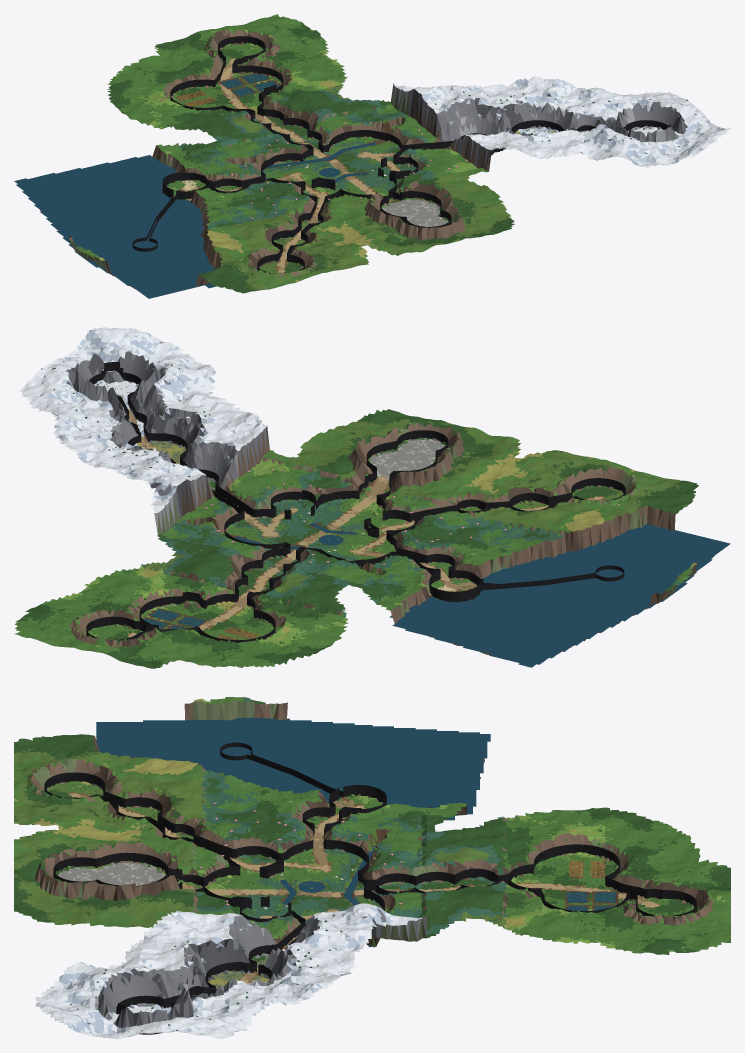
File: World_Terrain.fbx
The picture shows the model from 3 angles, top to bottom: view 1: azimuth 30°, elevation 25°; view 2: azimuth 150°, elevation 25°; view 3: azimuth 270°, elevation 25°; orthographic projection. The views are drawn at different scales.
Visible parts, largest first — view 1: W__lago, B__limites, T__chunk_2_3, T__chunk_3_2, T__chunk_1_4, T__chunk_3_3, T__chunk_5_4, T__chunk_0_5, T__chunk_2_4, T__chunk_3_5, T__chunk_3_0, T__chunk_4_5 (+29 smaller); view 2: W__lago, B__limites, T__chunk_2_4, T__chunk_3_4, T__chunk_4_5, T__chunk_2_3, T__chunk_5_4, T__chunk_0_5, T__chunk_1_5, T__chunk_3_2, T__chunk_6_5, T__chunk_3_5 (+27 smaller); view 3: W__lago, B__limites, T__chunk_4_1, T__chunk_4_2, T__chunk_5_4, T__chunk_4_4, T__chunk_1_5, T__chunk_3_5, T__chunk_3_0, T__chunk_5_5, T__chunk_4_3, T__chunk_0_5 (+30 smaller).
Part boxes in pixels (bbox=[...]): W__lago: bbox=[14, 155, 216, 298]; B__limites: bbox=[132, 36, 670, 274]; T__chunk_2_3: bbox=[378, 85, 492, 143]; T__chunk_3_2: bbox=[266, 82, 377, 140]; T__chunk_1_4: bbox=[494, 87, 606, 134]; T__chunk_3_3: bbox=[307, 114, 416, 171]; T__chunk_5_4: bbox=[203, 182, 317, 225]; T__chunk_0_5: bbox=[614, 98, 723, 147]; T__chunk_2_4: bbox=[429, 104, 532, 171]; T__chunk_3_5: bbox=[390, 172, 503, 222]; T__chunk_3_0: bbox=[180, 21, 294, 78]; T__chunk_4_5: bbox=[322, 192, 432, 239]; W__lago: bbox=[389, 524, 730, 667]; B__limites: bbox=[86, 362, 625, 642]; T__chunk_2_4: bbox=[153, 418, 284, 506]; T__chunk_3_4: bbox=[241, 461, 367, 531]; T__chunk_4_5: bbox=[368, 446, 499, 507]; T__chunk_2_3: bbox=[123, 454, 227, 537]; T__chunk_5_4: bbox=[403, 511, 533, 561]; T__chunk_0_5: bbox=[33, 341, 163, 412]; T__chunk_1_5: bbox=[120, 362, 228, 424]; T__chunk_3_2: bbox=[140, 537, 269, 594]; T__chunk_6_5: bbox=[535, 496, 666, 549]; T__chunk_3_5: bbox=[285, 428, 414, 497]; W__lago: bbox=[96, 717, 490, 820]; B__limites: bbox=[44, 742, 696, 1034]; T__chunk_4_1: bbox=[514, 833, 624, 895]; T__chunk_4_2: bbox=[407, 832, 516, 891]; T__chunk_5_4: bbox=[192, 788, 301, 841]; T__chunk_4_4: bbox=[192, 835, 301, 895]; T__chunk_1_5: bbox=[84, 942, 194, 1008]; T__chunk_3_5: bbox=[84, 875, 194, 927]; T__chunk_3_0: bbox=[622, 879, 730, 930]; T__chunk_5_5: bbox=[84, 785, 194, 839]; T__chunk_4_3: bbox=[299, 838, 409, 896]; T__chunk_0_5: bbox=[84, 980, 194, 1038].
Size of the model in its own units: 483 by 39.76 by 400.
